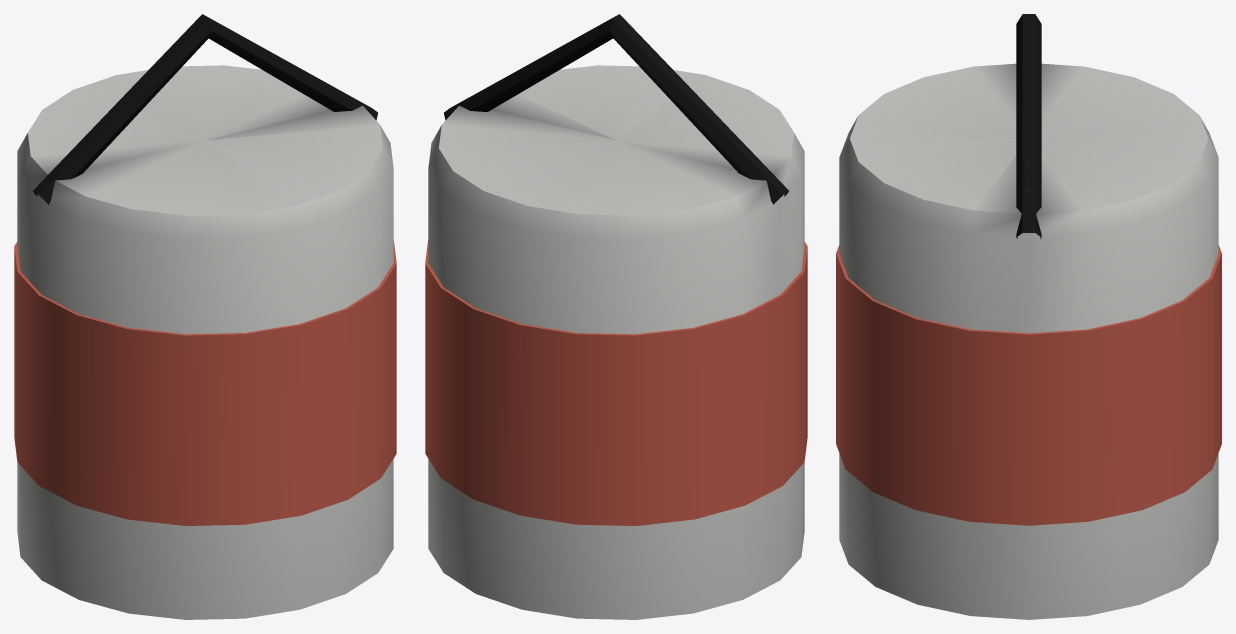
Rendered from chumtin.glb.
The picture shows the model from 3 angles, left to right: view 1: azimuth 30°, elevation 25°; view 2: azimuth 150°, elevation 25°; view 3: azimuth 270°, elevation 25°; orthographic projection.
Parts seen in each view (by area): view 1: boat_tin, boat_label, boat_iron; view 2: boat_tin, boat_label, boat_iron; view 3: boat_tin, boat_label, boat_iron.
Boxes of the visible parts, <box> form: boat_tin: <box>17,65,393,619</box>; boat_label: <box>14,240,396,525</box>; boat_iron: <box>33,14,377,204</box>; boat_tin: <box>428,65,804,619</box>; boat_label: <box>425,240,807,525</box>; boat_iron: <box>444,14,788,204</box>; boat_tin: <box>839,63,1218,619</box>; boat_label: <box>836,245,1221,525</box>; boat_iron: <box>1016,14,1041,238</box>.
Size of the model in its own units: 0.1864 by 0.2752 by 0.183.
3 materials, 1 textured.
